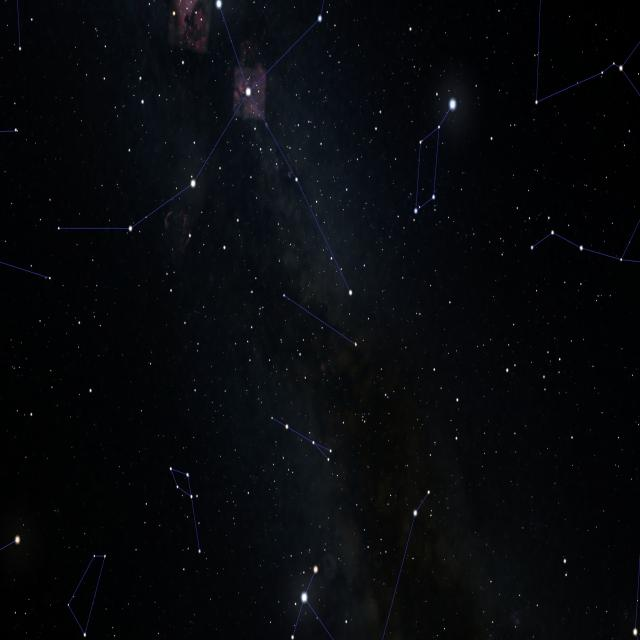Vulpecula: (279, 288, 361, 352)
